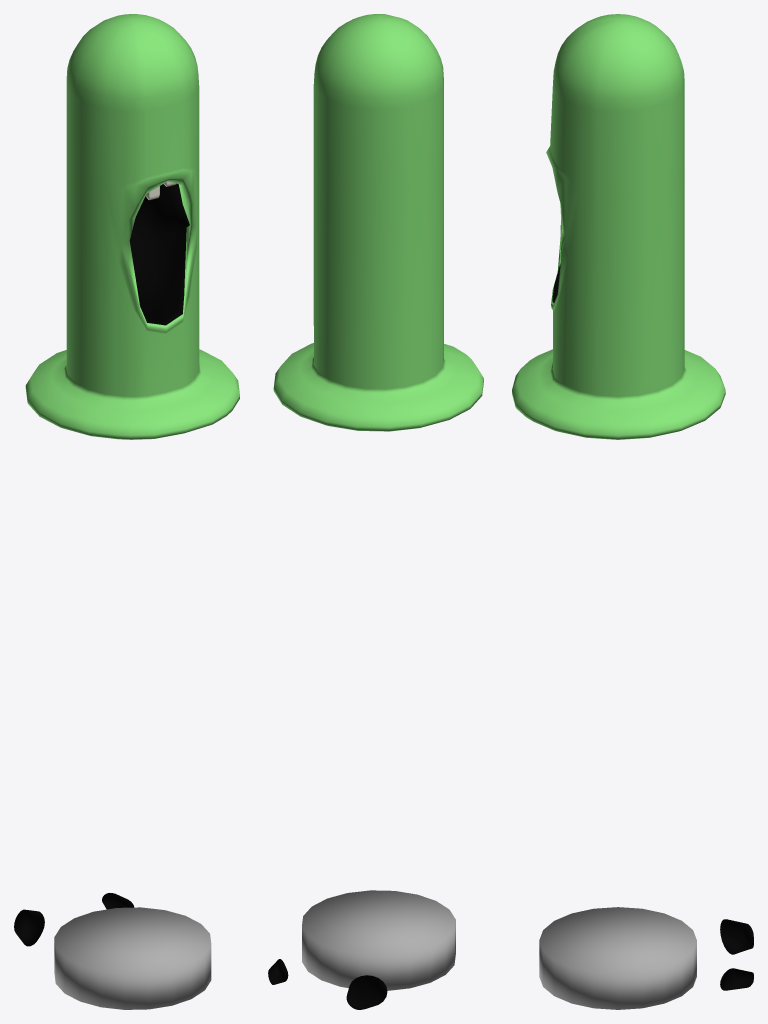
File: Larry_the_blob.fbx
3 views of the same model, side by side, from view 1: azimuth 30°, elevation 25°; view 2: azimuth 150°, elevation 25°; view 3: azimuth 270°, elevation 25° (orthographic).
Visible parts, largest first — view 1: blobBody_neutral, Eyes; view 2: blobBody_neutral, Eyes; view 3: blobBody_neutral, Eyes.
Part boxes in pixels (left/top/right/bottom): blobBody_neutral: left=25, top=14, right=239, bottom=439; Eyes: left=14, top=893, right=211, bottom=1009; blobBody_neutral: left=273, top=14, right=483, bottom=431; Eyes: left=268, top=890, right=455, bottom=1009; blobBody_neutral: left=512, top=14, right=725, bottom=439; Eyes: left=539, top=907, right=753, bottom=1009.
Size of the model in its own units: 3.23 by 15.84 by 3.63.
